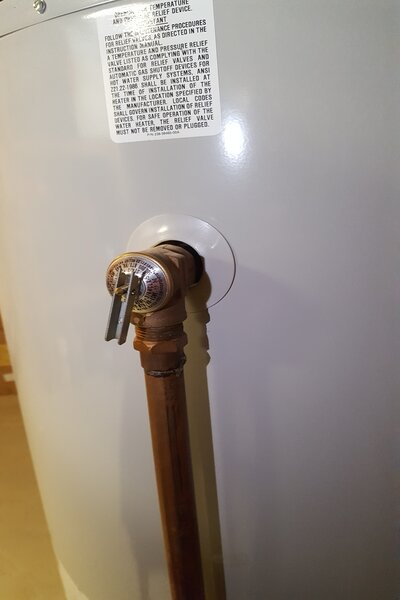valve: (100, 240, 195, 375)
